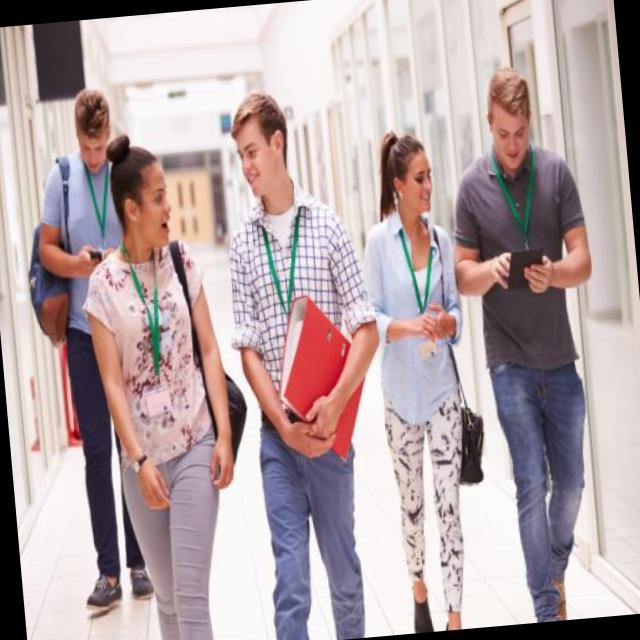id_card: (129, 250, 177, 418), (395, 215, 442, 360), (258, 204, 308, 330), (495, 141, 542, 252), (80, 146, 115, 252)
